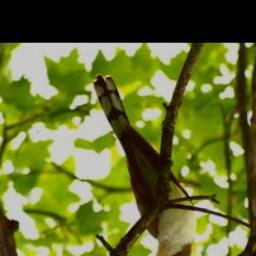Cuckoo: (91, 73, 196, 256)
